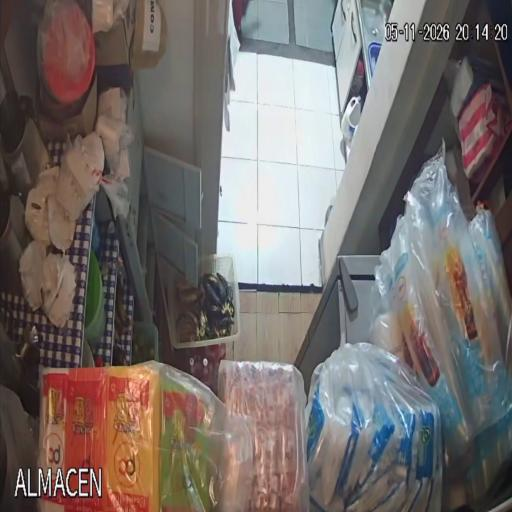Envase para platanos: (166, 254, 240, 349)
Productos culinarios: (369, 140, 512, 502), (40, 360, 252, 512), (306, 344, 442, 512), (219, 361, 309, 512)
Taper: (85, 251, 105, 350)
Taper2: (82, 340, 95, 367)
